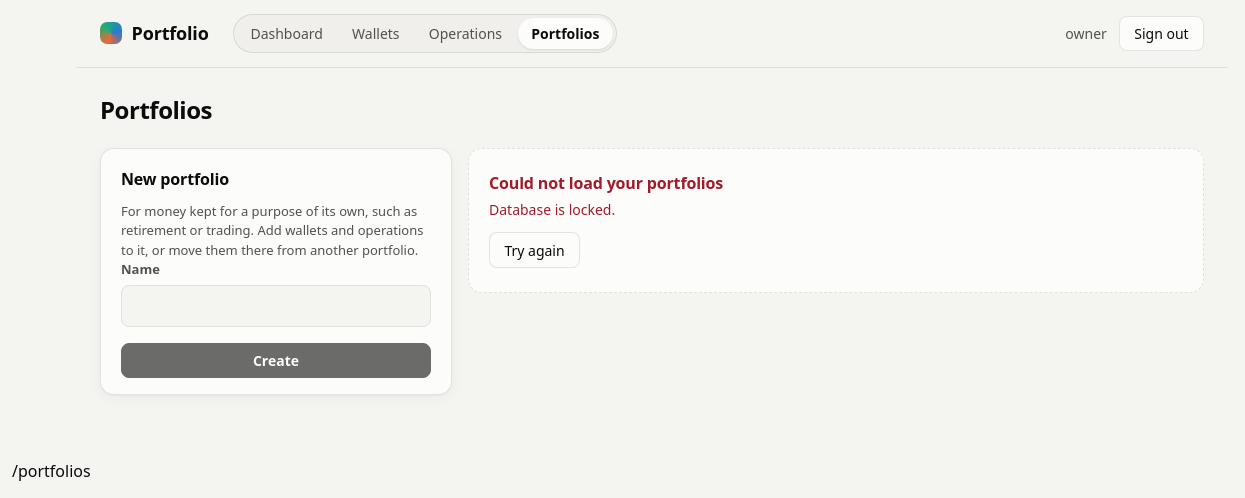
the Portfolios page › retries a failed read from the error state
Click the button "Try again". click: (534, 250)
box: x1=489 y1=232 x2=580 y2=268
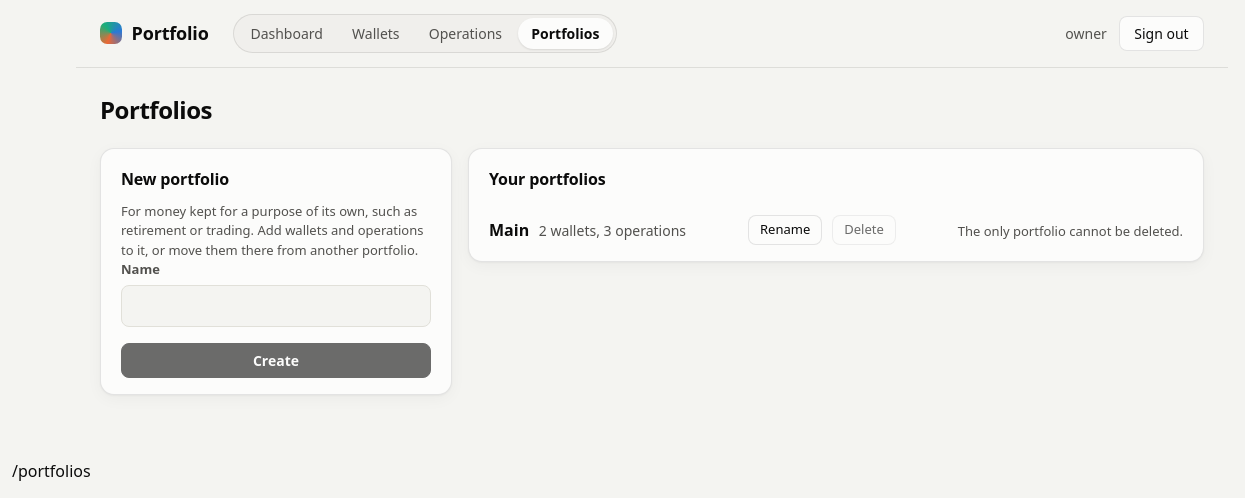
expect the text "2 wallets, 3 operations" is shown: met, box x1=539 y1=220 x2=686 y2=241
